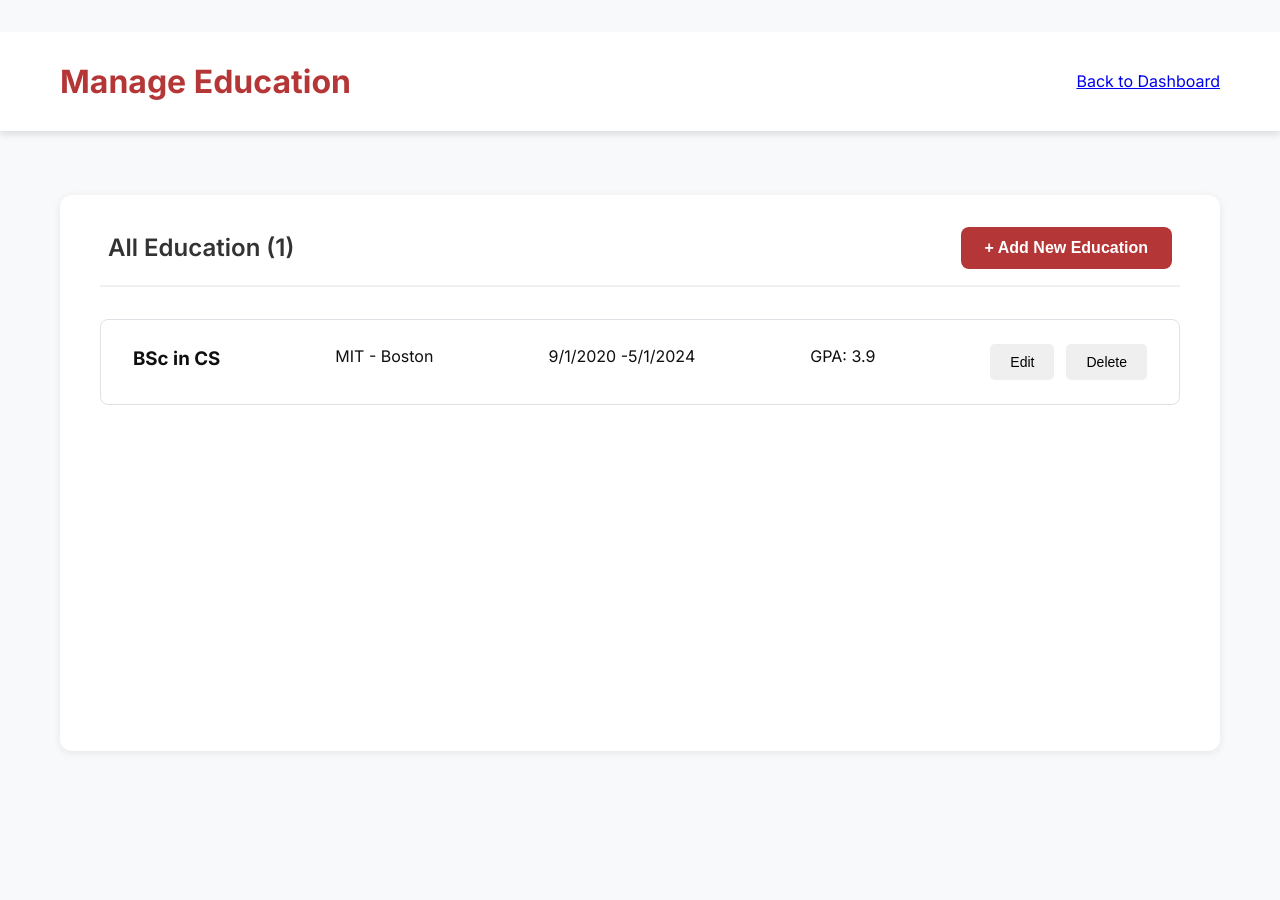
AdminEducation › handles delete error with message fallback
Step 1. Click the button "Delete" → (1107, 362), box [1066,344,1147,380]
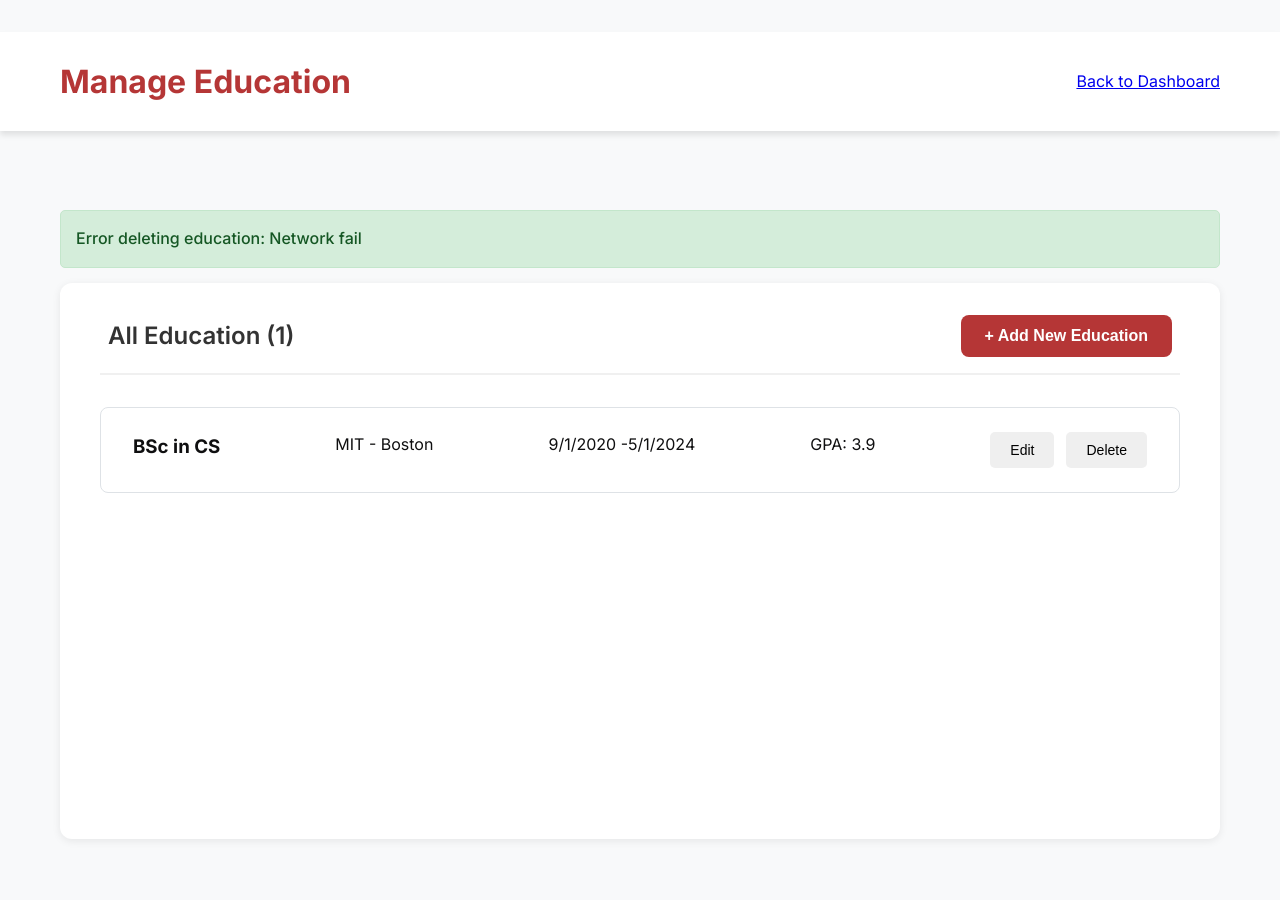
Expected: the text "Error deleting education: Network fail" is shown, [60,210,1220,268]
